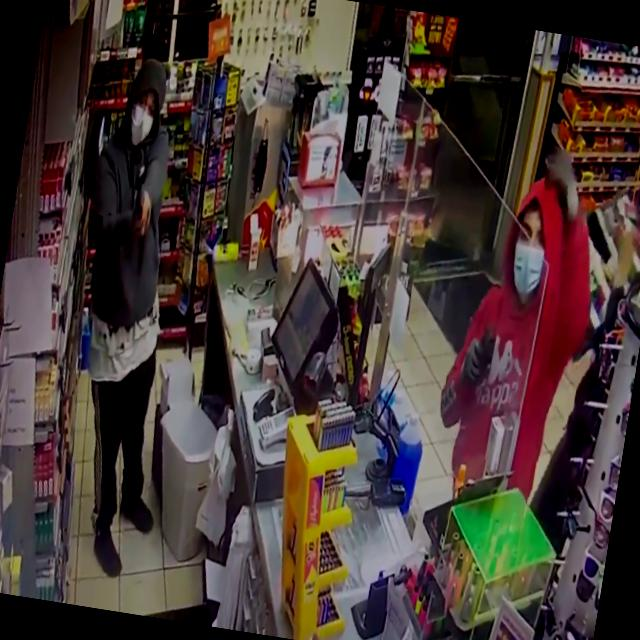handgun: (458, 299, 515, 393), (116, 170, 162, 247)
